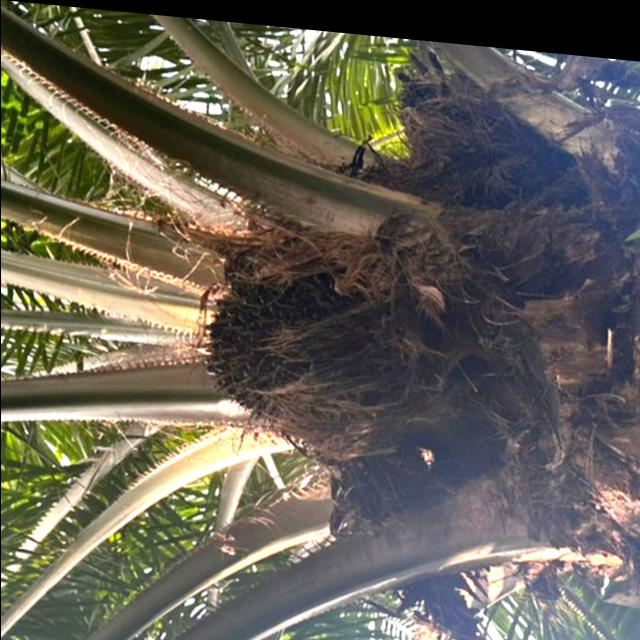almost: (186, 217, 419, 459)
